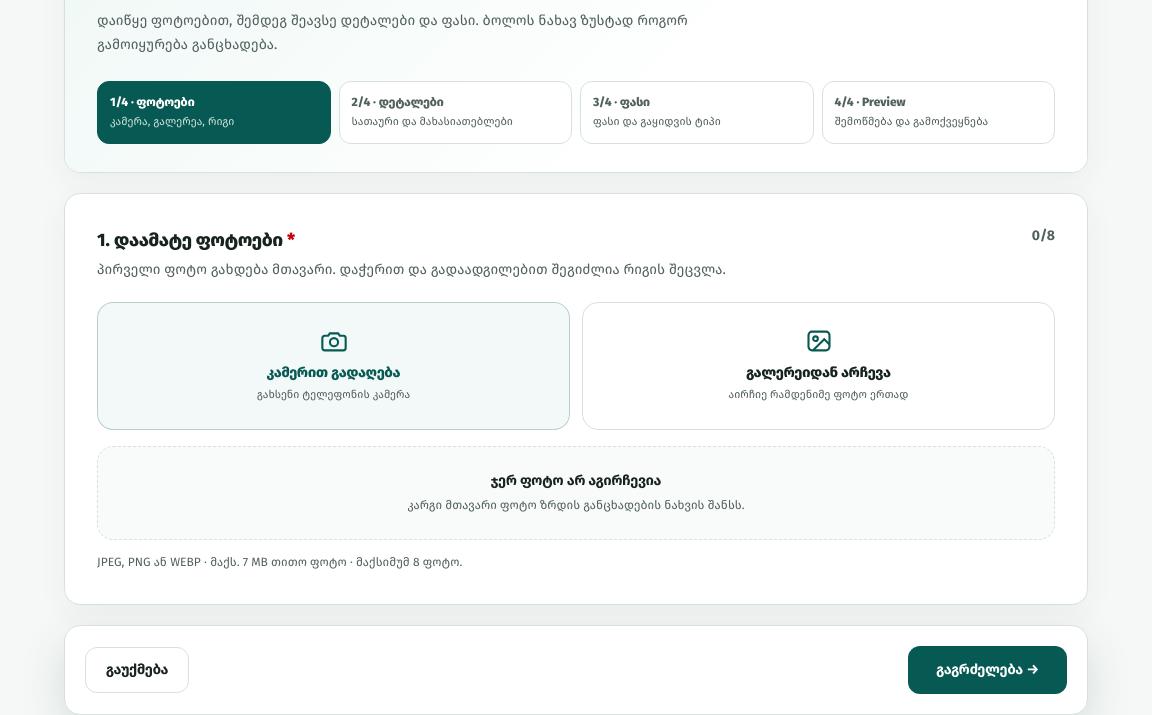
Test: CreateListingWizard › keeps the user on the first step until at least one image is selected
(page scrolled)
Click the button "გაგრძელება →": (988, 670) [908,646,1067,694]
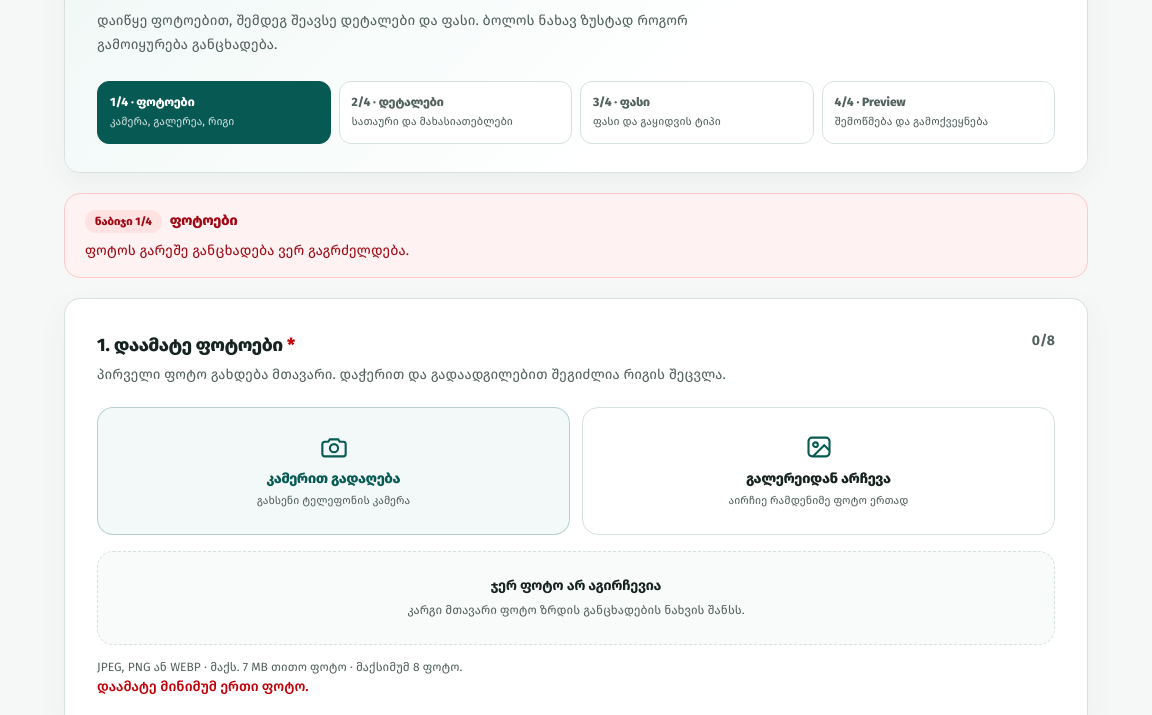
Check: the heading "1. დაამატე ფოტოები *" is shown, box [97,334,295,356]
Check: the text "დაამატე მინიმუმ ერთი ფოტო." is shown, box [97,678,309,695]
